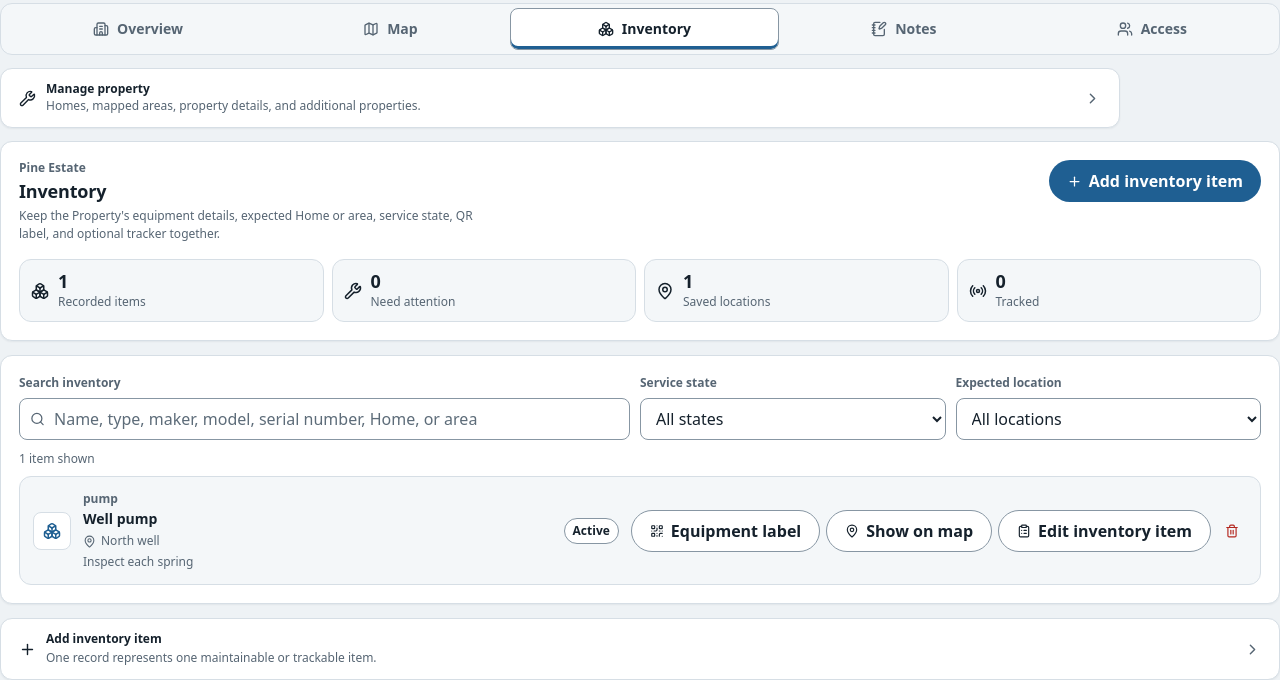
it: Property destructive flows › deletes only the selected equipment and warns about linked records
(page scrolled)
Click the button named "Delete: Well pump". click: (1232, 531)
box: left=1217, top=516, right=1247, bottom=546
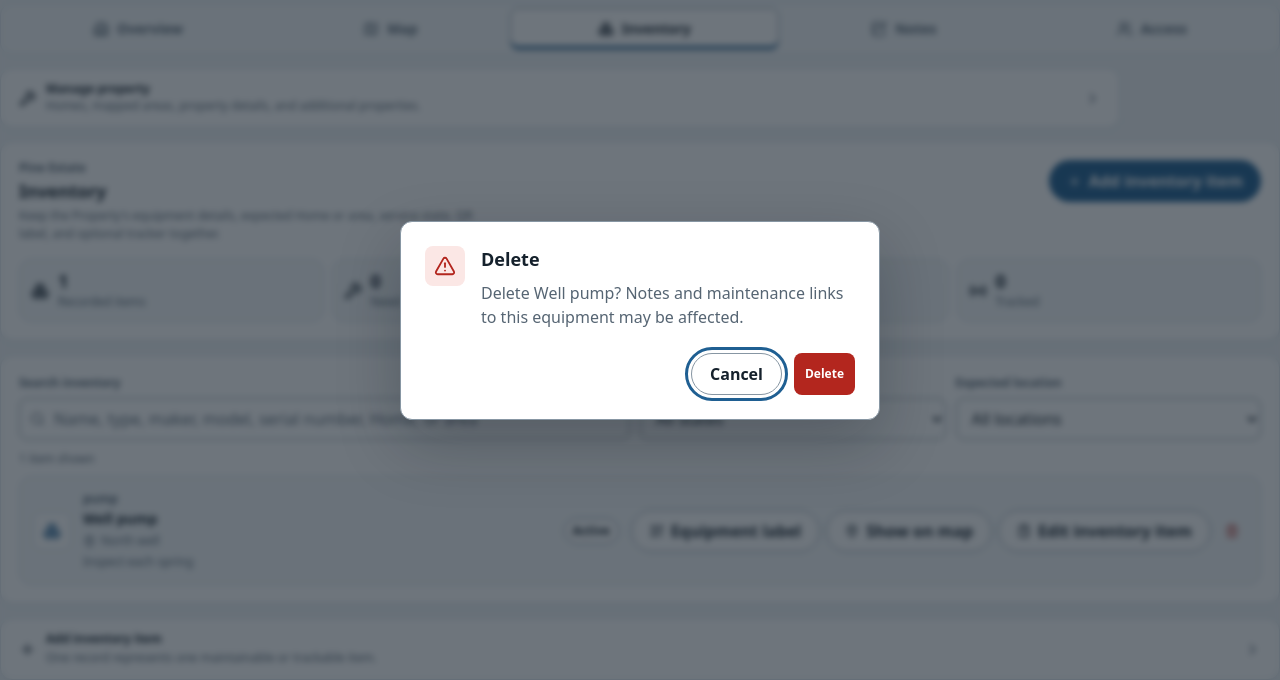
Expected: the dialog shows "Delete Well pump? Notes and maintenance links to this equipment may be affected.", left=481, top=282, right=844, bottom=328
Click the button "Delete". click: (824, 374)
box: left=794, top=352, right=855, bottom=394
(page scrolled)
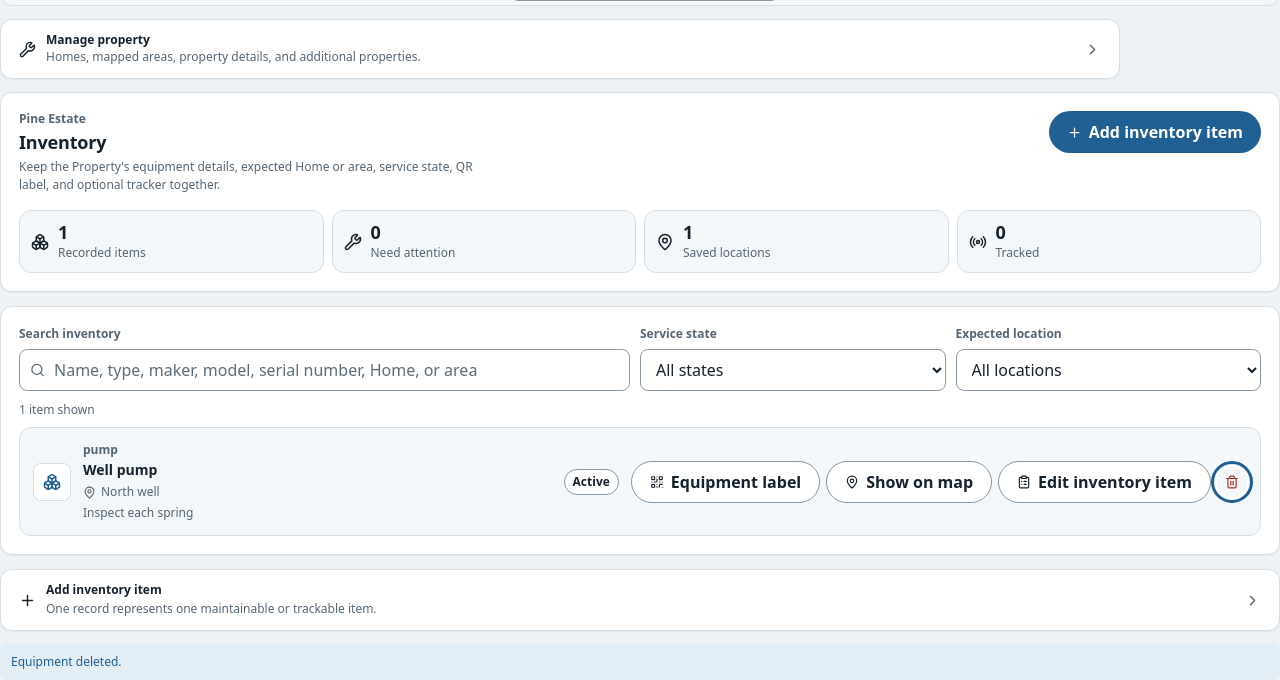
Expected: the text "Equipment deleted." is shown, left=0, top=644, right=1279, bottom=679
